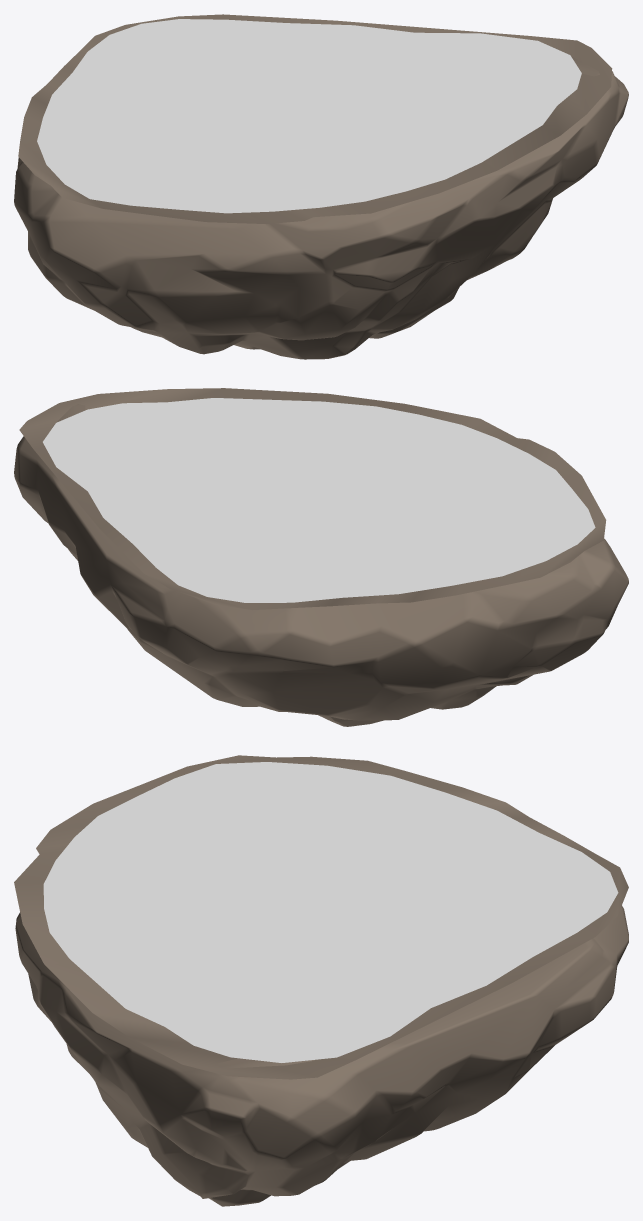
Rendered from IlhaM4.fbx.
3 views of the same model, one above another, from view 1: azimuth 30°, elevation 25°; view 2: azimuth 150°, elevation 25°; view 3: azimuth 270°, elevation 25° (orthographic). The views are drawn at different scales.
Visible parts, largest first — view 1: IlhaM4Grama, Ilham4, Ilham4Colisor; view 2: IlhaM4Grama, Ilham4, Ilham4Colisor; view 3: IlhaM4Grama, Ilham4, Ilham4Colisor.
Part boxes in pixels (box(x1,y1,x2,y2)): IlhaM4Grama: box(37, 19, 581, 213); Ilham4: box(14, 56, 628, 359); Ilham4Colisor: box(18, 14, 612, 224); IlhaM4Grama: box(43, 398, 595, 602); Ilham4: box(14, 404, 628, 726); Ilham4Colisor: box(19, 388, 606, 610); IlhaM4Grama: box(43, 762, 618, 1062); Ilham4: box(15, 905, 628, 1206); Ilham4Colisor: box(14, 755, 628, 1079).
Bounding box in the file's own units: 3251 × 1151 × 2469.
